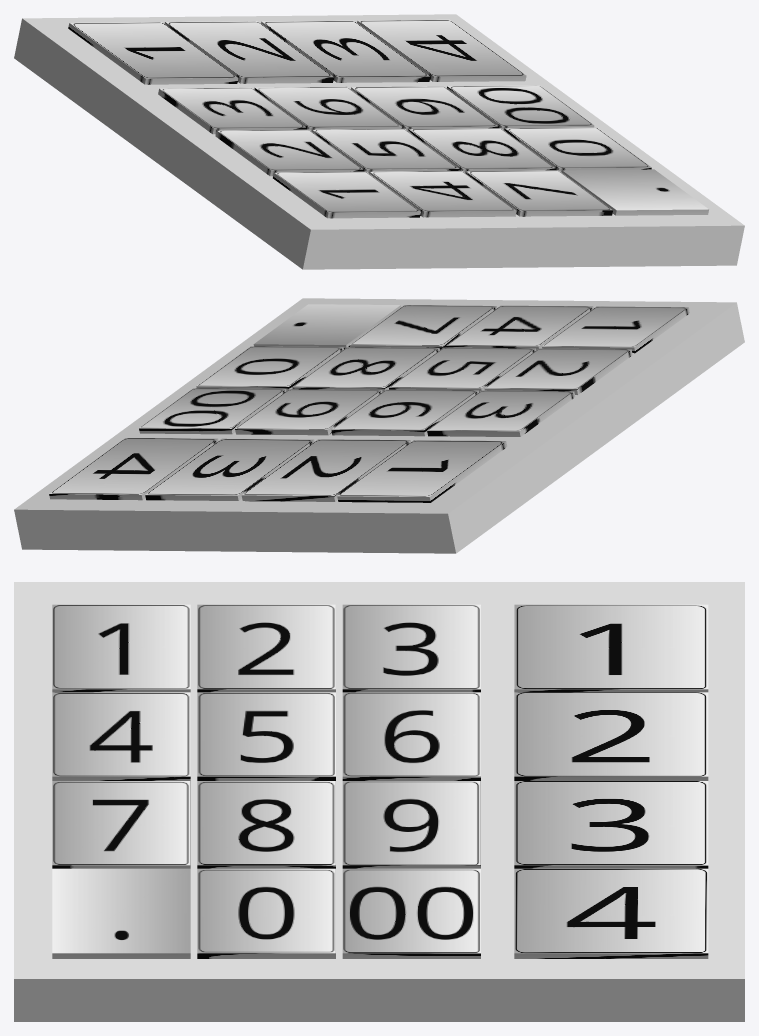
The model's file is ATMNumPad.fbx.
The picture shows the model from 3 angles, top to bottom: view 1: azimuth 30°, elevation 25°; view 2: azimuth 150°, elevation 25°; view 3: azimuth 270°, elevation 25°; orthographic projection. The views are drawn at different scales.
Parts seen in each view (by area): view 1: NumPad, Anular, Corrigir, Confirmar, Nada, button1, button4, ponto, button7, button2, button3, button0 (+5 smaller); view 2: NumPad, Anular, Corrigir, Confirmar, Nada, button3, button6, button00, button9, button2, button1, button0 (+5 smaller); view 3: NumPad, Confirmar, Corrigir, Anular, Nada, button0, ponto, button00, button5, button4, button6, button2 (+5 smaller).
Boxes of the visible parts, box(x1,y1,x2,y2) form: NumPad: box(14, 14, 744, 269); Anular: box(68, 22, 238, 84); Corrigir: box(164, 21, 333, 83); Confirmar: box(357, 19, 526, 81); Nada: box(261, 20, 430, 82); button1: box(273, 171, 420, 218); button4: box(369, 170, 516, 217); ponto: box(561, 169, 708, 215); button7: box(465, 170, 612, 216); button2: box(215, 129, 363, 176); button3: box(158, 87, 306, 134); button0: box(504, 127, 651, 172); NumPad: box(14, 298, 744, 553); Anular: box(337, 440, 507, 502); Corrigir: box(241, 439, 410, 501); Confirmar: box(49, 438, 218, 500); Nada: box(145, 438, 314, 500); button3: box(427, 390, 575, 436); button6: box(331, 389, 478, 436); button00: box(139, 388, 286, 434); button9: box(235, 389, 382, 435); button2: box(484, 348, 632, 394); button1: box(541, 306, 689, 353); button0: box(196, 346, 343, 390); NumPad: box(14, 582, 744, 1021); Confirmar: box(514, 868, 708, 958); Corrigir: box(514, 692, 708, 780); Anular: box(514, 604, 708, 692); Nada: box(514, 781, 708, 868); button0: box(197, 868, 335, 958); ponto: box(52, 868, 190, 958); button00: box(342, 868, 480, 958); button5: box(197, 692, 335, 780); button4: box(52, 692, 190, 780); button6: box(342, 692, 480, 780); button2: box(197, 604, 335, 692).
Bounding box in the file's own units: 18.87 × 5.7 × 21.34.
16 materials, 16 textured.
